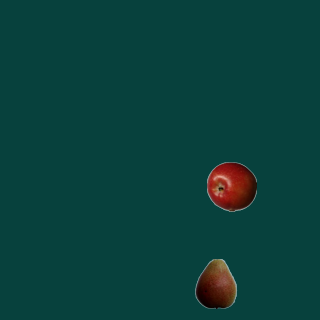Apple Braeburn: (206, 161, 256, 211)
Pear Forelle: (190, 258, 240, 308)
